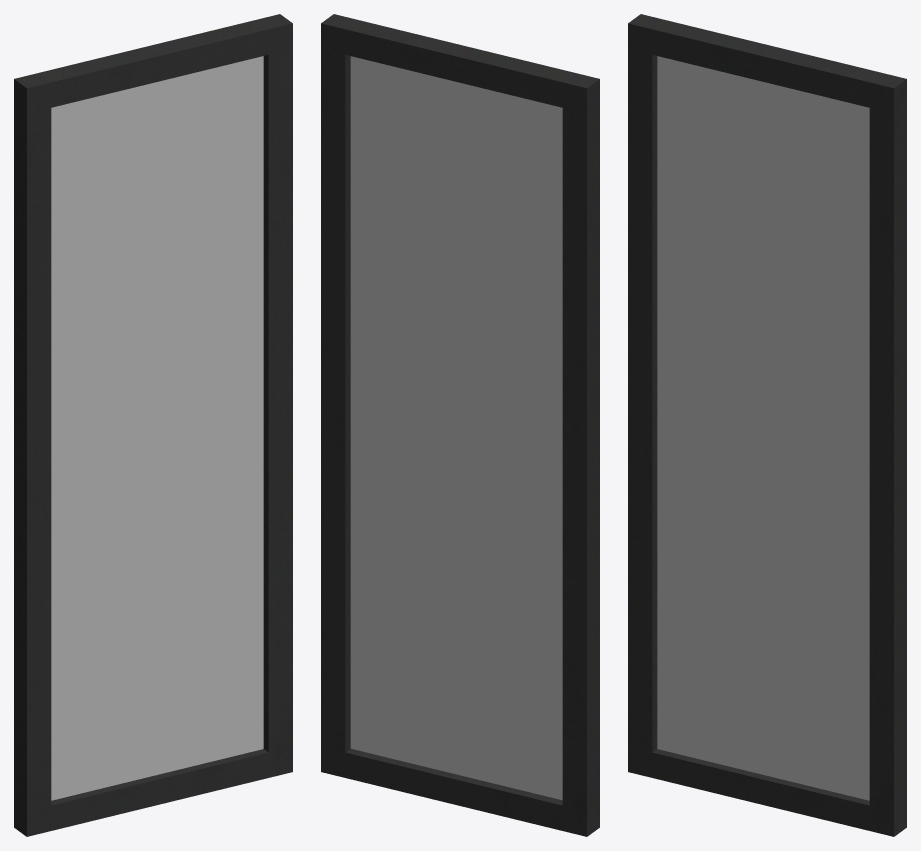
File: Entrance two.fbx
3 renders of one model, left to right at view 1: azimuth 30°, elevation 25°; view 2: azimuth 150°, elevation 25°; view 3: azimuth 330°, elevation 25°, orthographic.
Visible parts, largest first — view 1: pCube571, pasted__pCube280; view 2: pCube571, pasted__pCube280; view 3: pCube571, pasted__pCube280.
Part boxes in pixels (<box>): pCube571: <box>51,56,263,800</box>; pasted__pCube280: <box>14,14,292,836</box>; pCube571: <box>350,56,562,800</box>; pasted__pCube280: <box>321,14,599,836</box>; pCube571: <box>657,56,869,800</box>; pasted__pCube280: <box>628,14,906,836</box>.
Bounding box in the file's own units: 0.9957 × 2.68 × 0.0833.
Materials: 2 (2 with a texture image).
